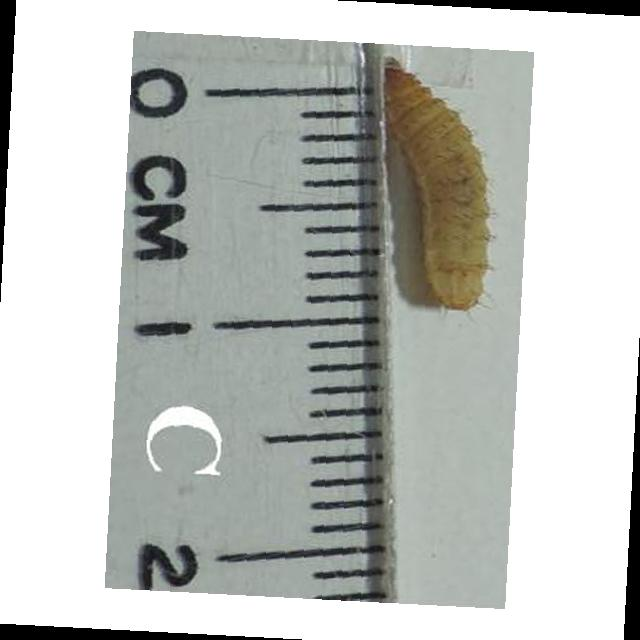Maggot: (379, 49, 496, 309)
